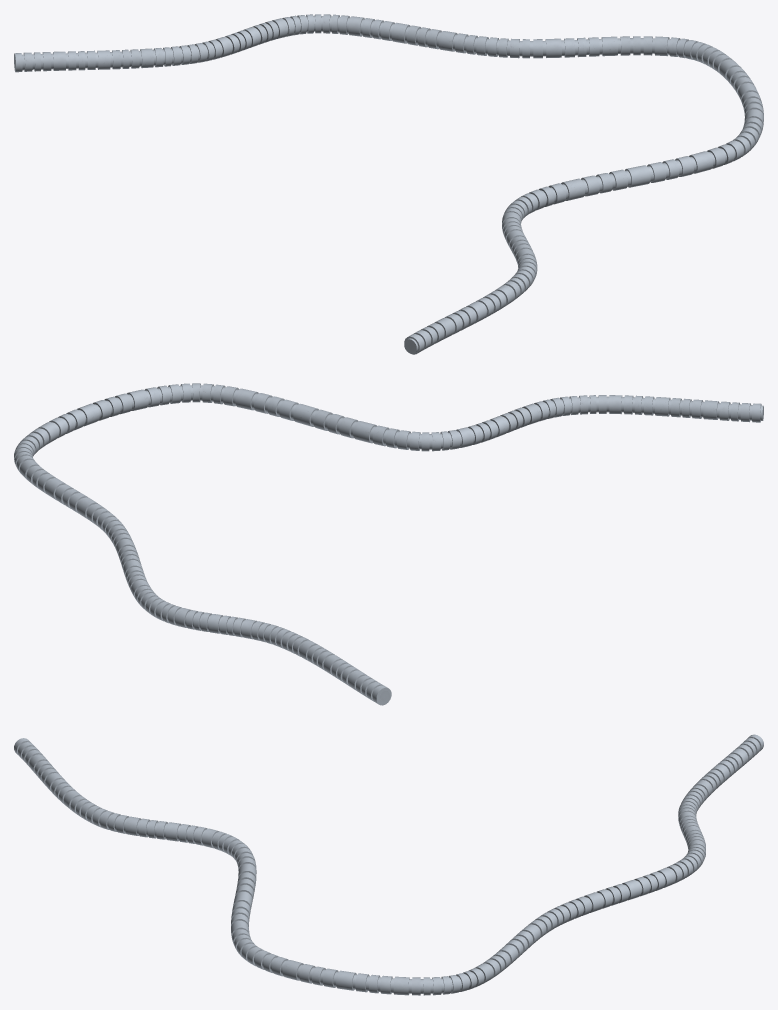
The model's file is SM_Cable_1_Splines_1.fbx.
The picture shows the model from 3 angles, top to bottom: view 1: azimuth 30°, elevation 25°; view 2: azimuth 150°, elevation 25°; view 3: azimuth 270°, elevation 25°; orthographic projection. The views are drawn at different scales.
Visible parts, largest first — view 1: SM_Cable_1_Splines_1; view 2: SM_Cable_1_Splines_1; view 3: SM_Cable_1_Splines_1.
Boxes of the visible parts, left/top/right/bottom form: SM_Cable_1_Splines_1: left=14, top=14, right=763, bottom=354; SM_Cable_1_Splines_1: left=14, top=383, right=763, bottom=705; SM_Cable_1_Splines_1: left=14, top=734, right=763, bottom=995.
Bounding box in the file's own units: 356 × 454 × 10.83.
